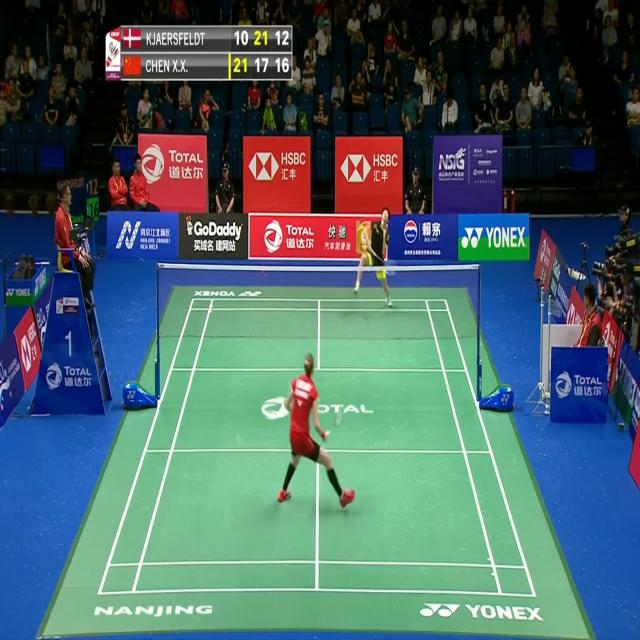Player1: (275, 352, 359, 510)
Player2: (352, 206, 398, 316)
